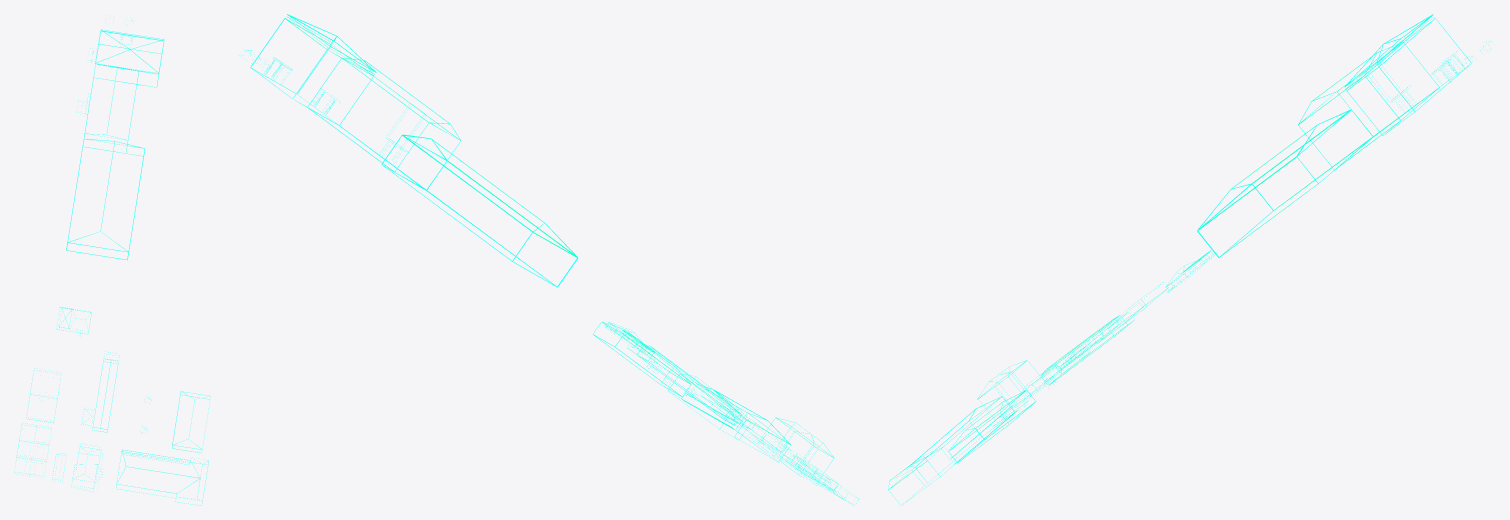
The picture shows the model from 3 angles, left to right: view 1: azimuth 30°, elevation 25°; view 2: azimuth 150°, elevation 25°; view 3: azimuth 270°, elevation 25°; orthographic projection. The views are drawn at different scales.
Visible parts, largest first — view 1: SketchUp.025; view 2: SketchUp.025; view 3: SketchUp.025.
Boxes of the visible parts, x1,y1,x2,y2 form: SketchUp.025: [15, 20, 210, 505]; SketchUp.025: [239, 14, 859, 505]; SketchUp.025: [888, 14, 1492, 505].
Size of the model in its own units: 8.33 by 10.51 by 10.66.
